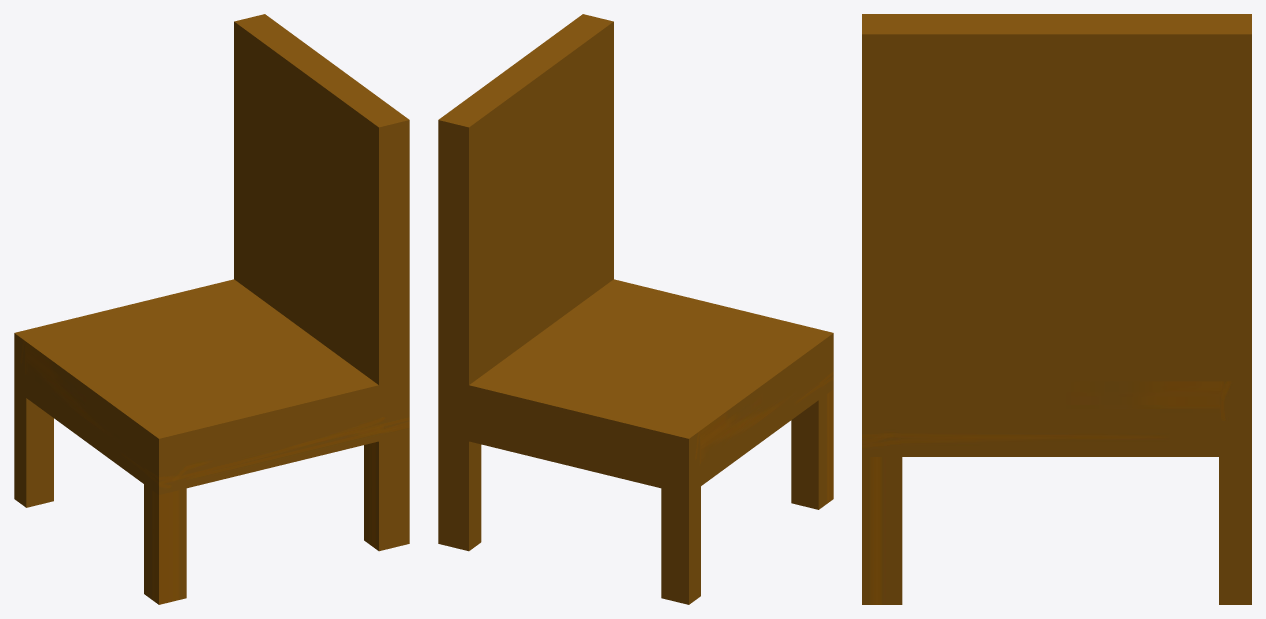
File: P_Chair1.fbx
The picture shows the model from 3 angles, left to right: view 1: azimuth 30°, elevation 25°; view 2: azimuth 150°, elevation 25°; view 3: azimuth 270°, elevation 25°; orthographic projection. The views are drawn at different scales.
Parts seen in each view (by area): view 1: P_Chair1; view 2: P_Chair1; view 3: P_Chair1.
Boxes of the visible parts, x1,y1,x2,y2 form: P_Chair1: [14, 14, 409, 604]; P_Chair1: [438, 14, 833, 604]; P_Chair1: [862, 14, 1251, 604].
Bounding box in the file's own units: 0.7 × 1.13 × 0.7.
Materials: 1 (1 with a texture image).
